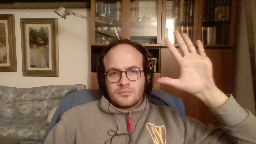Mano_aperta: (155, 25, 214, 91)
